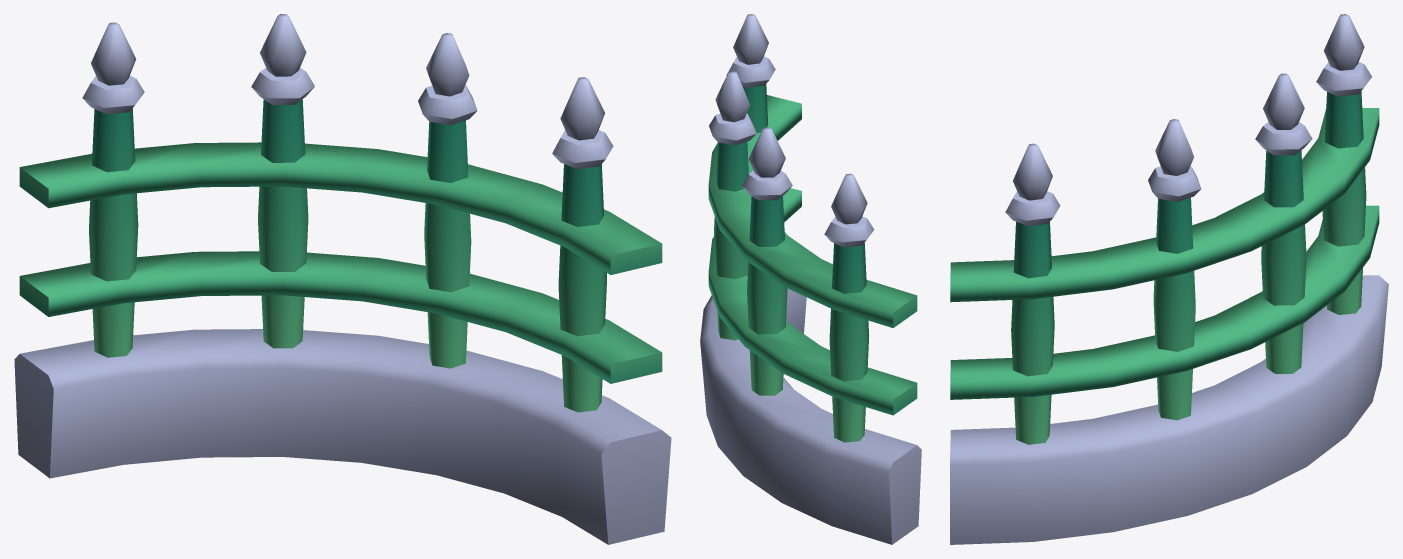
The model's file is iron-fence-border-curve.004_lev2.glb.
3 renders of one model, left to right at view 1: azimuth 30°, elevation 25°; view 2: azimuth 150°, elevation 25°; view 3: azimuth 270°, elevation 25°, orthographic. The views are drawn at different scales.
Parts seen in each view (by area): view 1: iron-fence-border-curve.004_lev2; view 2: iron-fence-border-curve.004_lev2; view 3: iron-fence-border-curve.004_lev2.
Boxes of the visible parts, x1,y1,x2,y2 form: iron-fence-border-curve.004_lev2: (14,14,671,544); iron-fence-border-curve.004_lev2: (700,14,921,544); iron-fence-border-curve.004_lev2: (950,14,1388,544).
Bounding box in the file's own units: 7.12 × 7.03 × 7.29.
Materials: 1 (1 with a texture image).
